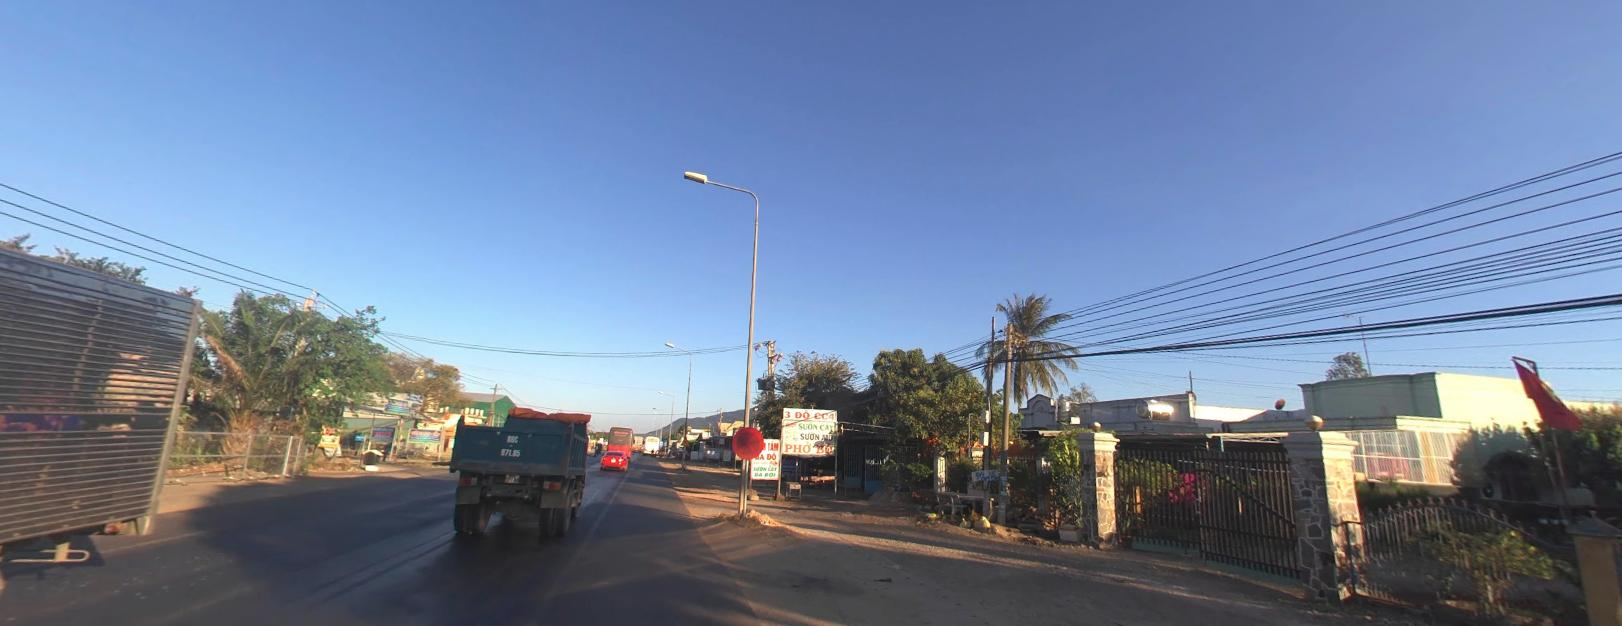Cam dung va do: (731, 425, 763, 458), (732, 425, 762, 457)
